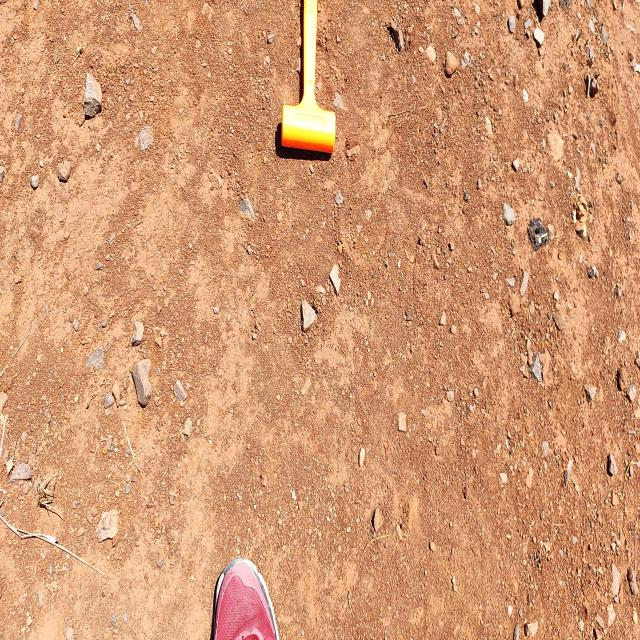Orange_hammer: (280, 0, 336, 156)
